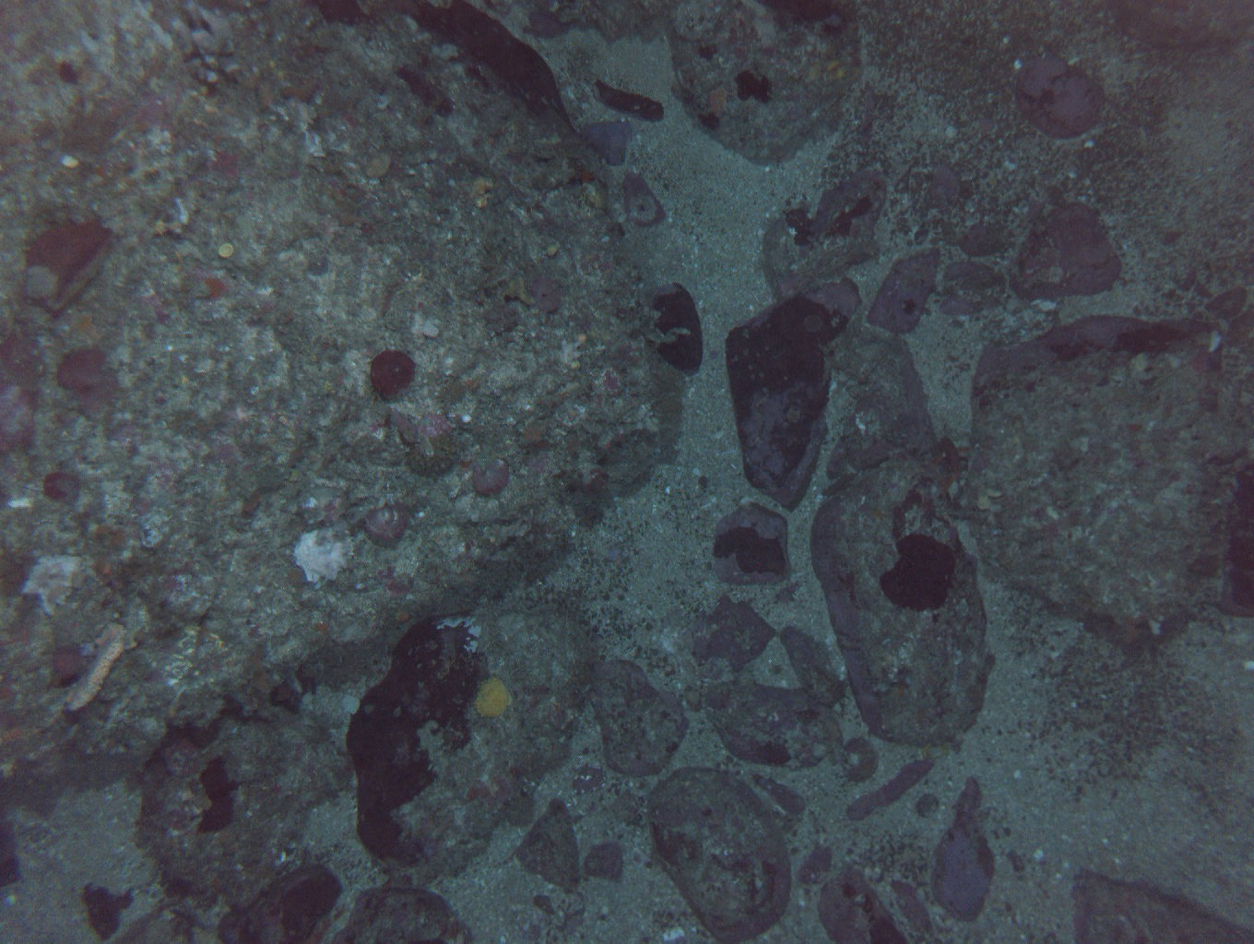Brachionichthyidae: (931, 436, 973, 493)
